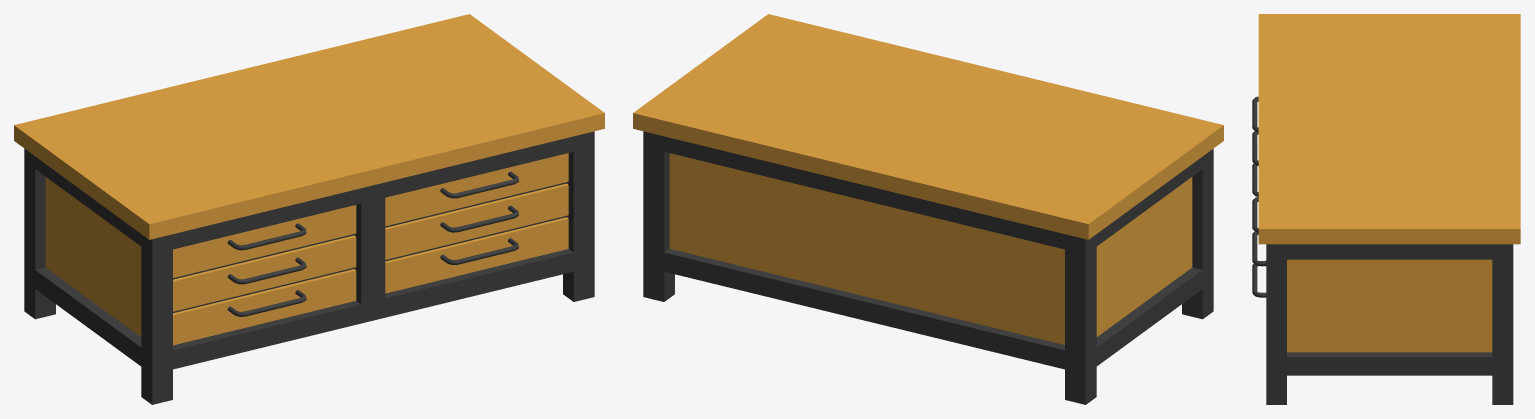
The model's file is SM_PaintingBench.fbx.
3 views of the same model, side by side, from view 1: azimuth 30°, elevation 25°; view 2: azimuth 150°, elevation 25°; view 3: azimuth 270°, elevation 25° (orthographic). The views are drawn at different scales.
Visible parts, largest first — view 1: SM_PaintingBench; view 2: SM_PaintingBench; view 3: SM_PaintingBench.
Part boxes in pixels (left/top/right/bottom): SM_PaintingBench: left=14, top=14, right=604, bottom=404; SM_PaintingBench: left=633, top=14, right=1223, bottom=404; SM_PaintingBench: left=1252, top=14, right=1520, bottom=404.
Bounding box in the file's own units: 206 × 109 × 80.
